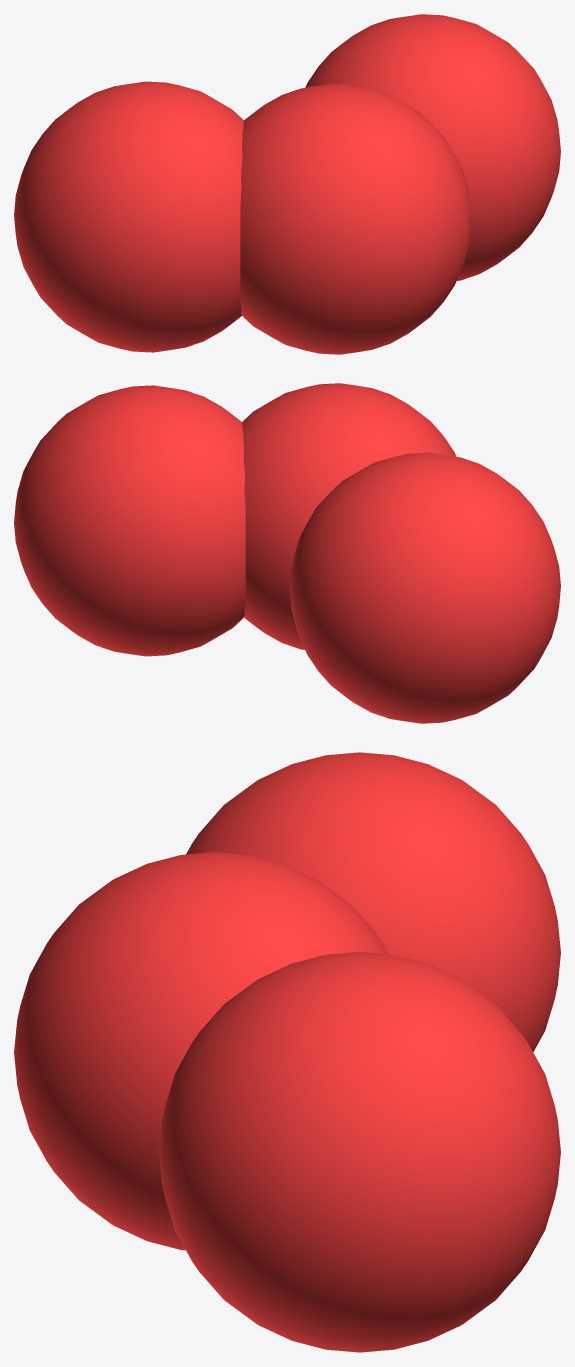
Rendered from 08_O3_CKP.fbx.
3 views of the same model, one above another, from view 1: azimuth 30°, elevation 25°; view 2: azimuth 150°, elevation 25°; view 3: azimuth 270°, elevation 25° (orthographic). The views are drawn at different scales.
Visible parts, largest first — view 1: O.010, O.012, O.011; view 2: O.012, O.011, O.010; view 3: O.011, O.010, O.012.
Boxes of the visible parts, box(x1,y1,x2,y2) form: O.010: box(240, 83, 471, 354); O.012: box(14, 81, 243, 352); O.011: box(305, 14, 560, 280); O.012: box(289, 452, 560, 723); O.011: box(14, 385, 245, 656); O.010: box(242, 383, 456, 649); O.011: box(159, 951, 560, 1352); O.010: box(14, 852, 388, 1250); O.012: box(186, 752, 560, 1051).
Size of the model in its own units: 381 by 175 by 238.
